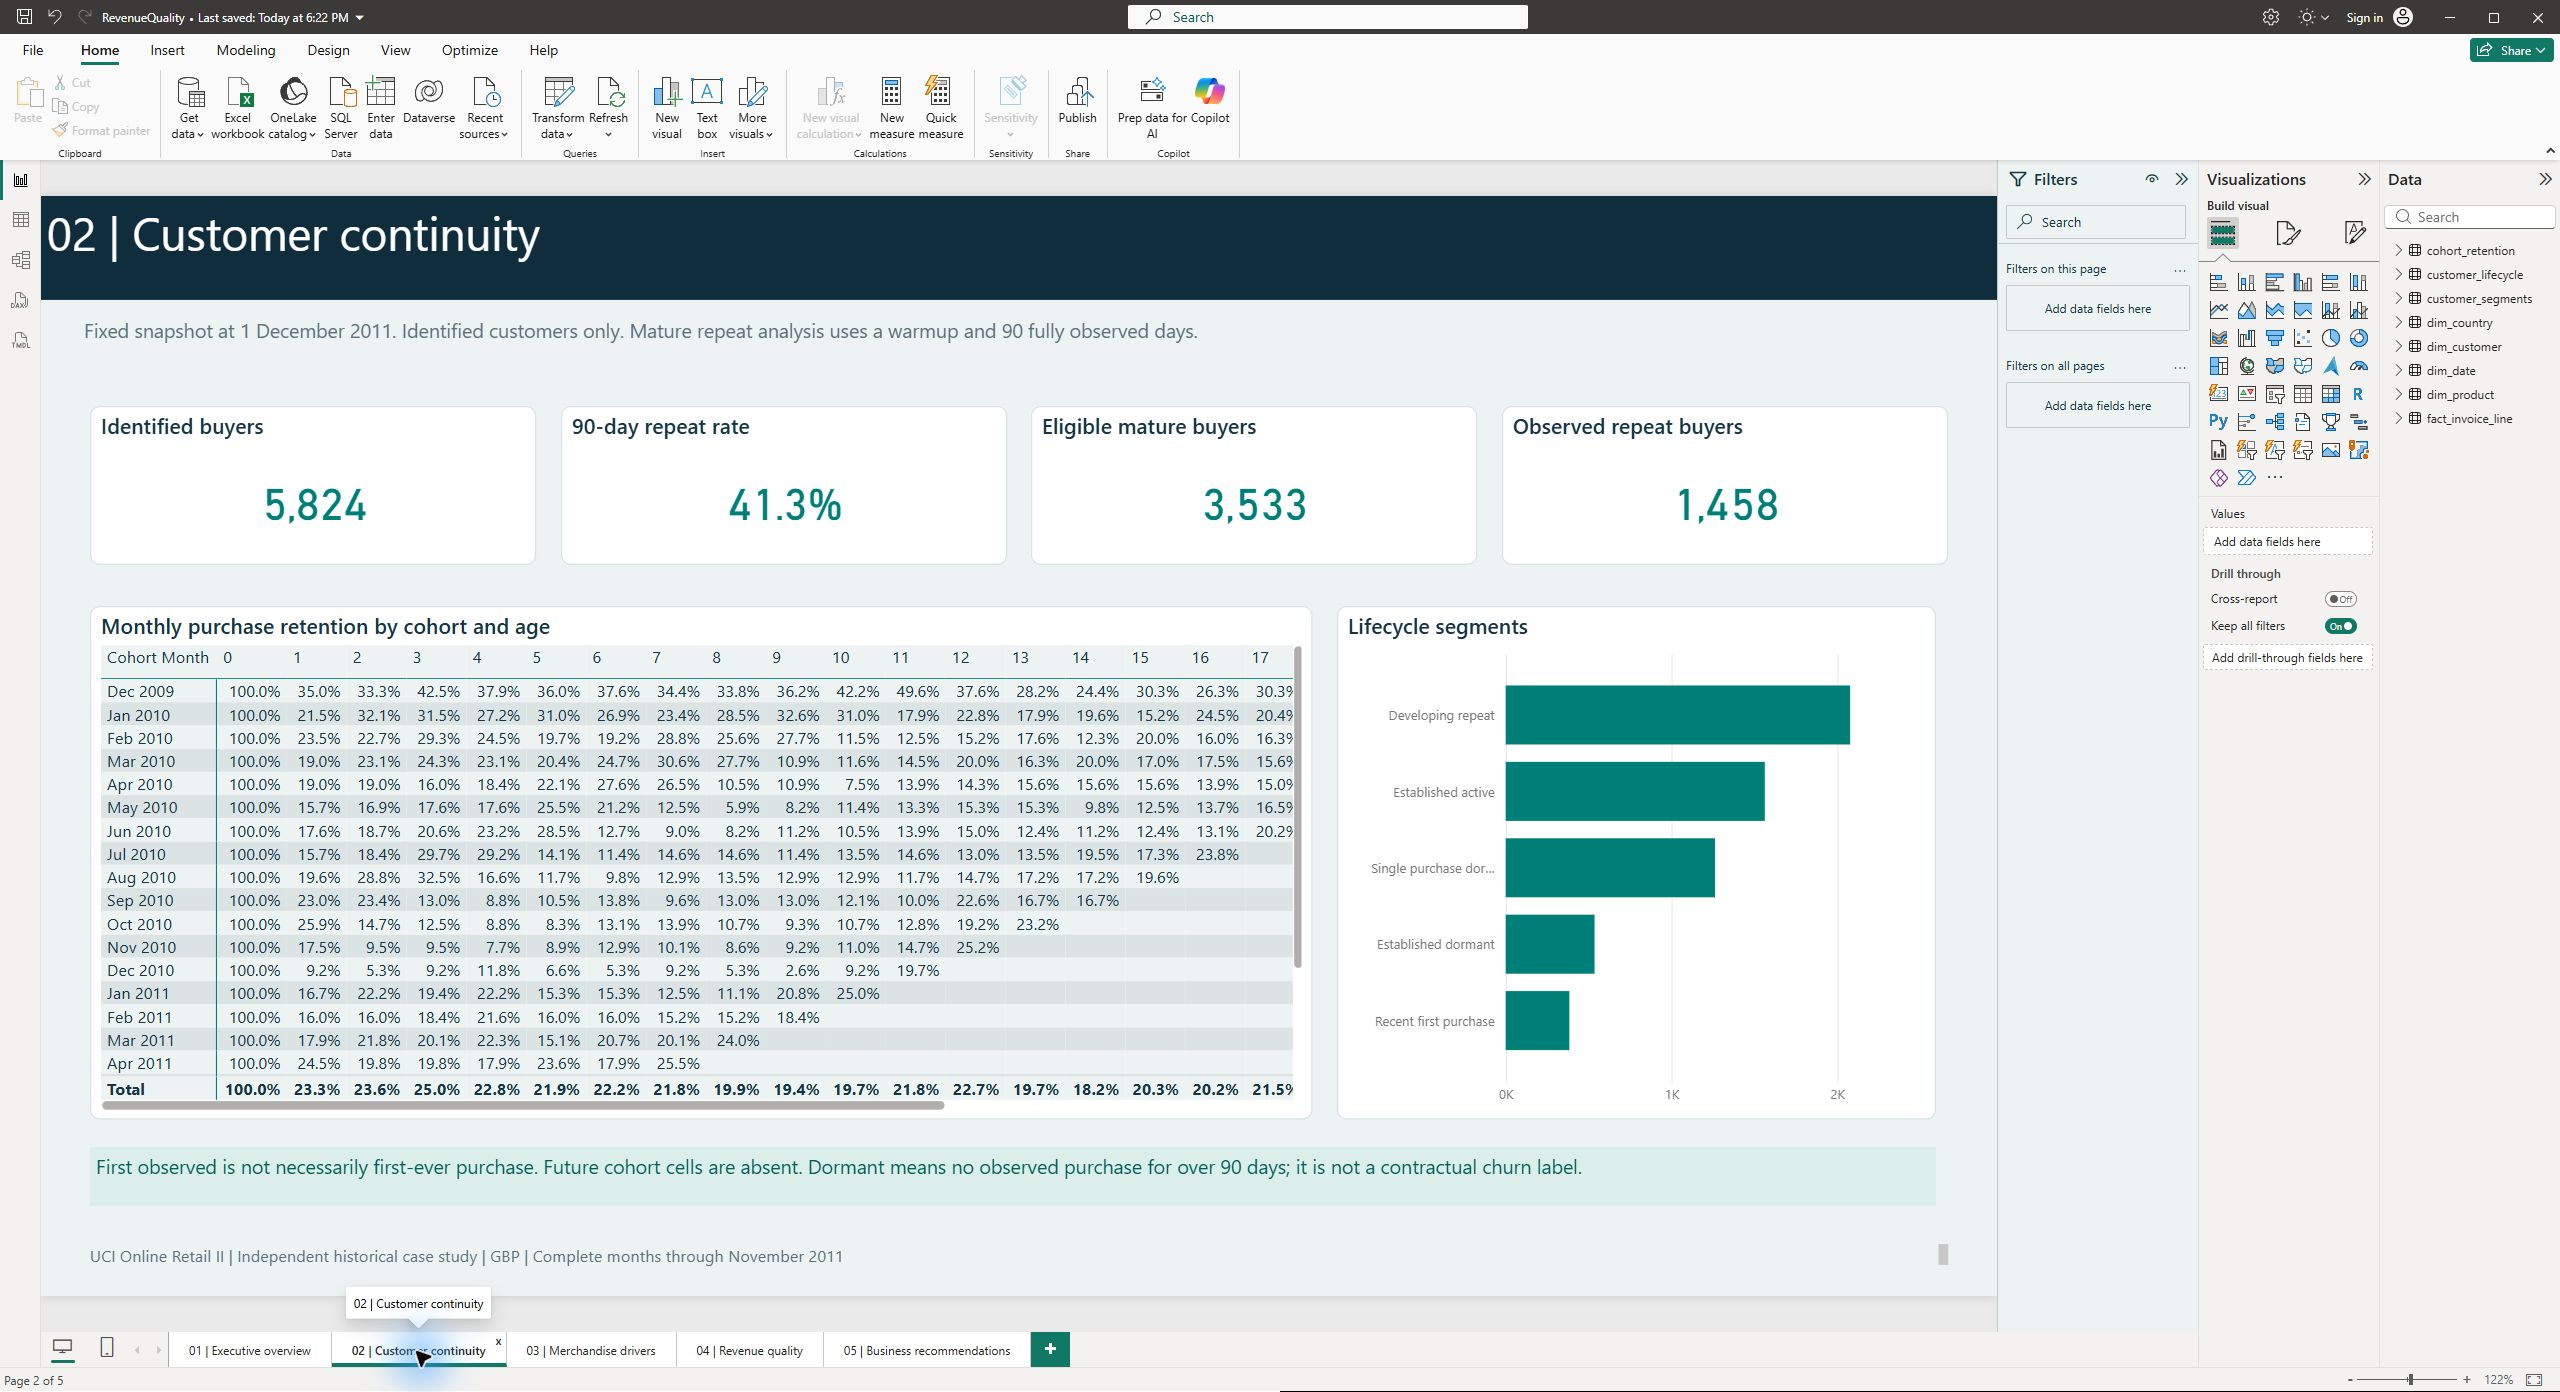

The page's visual inventory and layout, read from the dashboard file:
{"tool":"powerbi","page":{"name":"02 | Customer return","canvas":[1600,900],"ordinal":1},"visuals":[{"type":"textbox","box":[0,0,1600,116],"z":21},{"type":"textbox","box":[32,0,1000,35.5],"z":22},{"type":"textbox","box":[32,30,1515,61],"z":23},{"type":"textbox","box":[34,80,1518,37],"z":24},{"type":"textbox","box":[1480,0,92,37],"z":25},{"type":"textbox","box":[34,852,1530,36],"z":26},{"type":"textbox","box":[36,139,1528,43],"z":27},{"type":"card","title":"Bought again within 90 days","fields":{"Values":["fact_invoice_line.Repeat 90d Rate"]},"box":[36,215,490,96],"z":28},{"type":"textbox","box":[36,307,490,43],"z":29},{"type":"card","title":"Identified buyers","fields":{"Values":["fact_invoice_line.Snapshot Customers"]},"box":[546,215,315,96],"z":30},{"type":"textbox","box":[546,307,315,43],"z":31},{"type":"card","title":"Eligible for fair comparison","fields":{"Values":["fact_invoice_line.Mature 90d Customers"]},"box":[881,215,315,96],"z":32},{"type":"textbox","box":[881,307,315,43],"z":33},{"type":"card","title":"Observed repeat buyers","fields":{"Values":["fact_invoice_line.Mature 90d Repeat Customers"]},"box":[1216,215,348,96],"z":34},{"type":"textbox","box":[1216,307,348,43],"z":35},{"type":"pivotTable","title":"Who purchased again in later calendar months?","fields":{"Columns":["cohort_retention.month_age"],"Rows":["cohort_retention.cohort_month"],"Values":["fact_invoice_line.Purchase Retention Rate"]},"box":[36,367,1000,359],"z":36},{"type":"clusteredBarChart","title":"Customer groups | fixed snapshot","fields":{"Category":["customer_segments.segment"],"Y":["fact_invoice_line.Snapshot Customers"]},"box":[1058,367,506,359],"z":37},{"type":"textbox","box":[36,758,1528,37],"z":38},{"type":"textbox","box":[36,787,1528,60],"z":39}]}

Visuals, with their boxes on the page's 1600x900 design canvas (x1, y1, x2, y2). These are canvas units, not pixel positions in the 2560x1392 screenshot, which may show the page scaled, cropped or inside an application window:
textbox: {"left": 0, "top": 0, "right": 1600, "bottom": 116}
textbox: {"left": 32, "top": 0, "right": 1032, "bottom": 36}
textbox: {"left": 32, "top": 30, "right": 1547, "bottom": 91}
textbox: {"left": 34, "top": 80, "right": 1552, "bottom": 117}
textbox: {"left": 1480, "top": 0, "right": 1572, "bottom": 37}
textbox: {"left": 34, "top": 852, "right": 1564, "bottom": 888}
textbox: {"left": 36, "top": 139, "right": 1564, "bottom": 182}
"Bought again within 90 days" card: {"left": 36, "top": 215, "right": 526, "bottom": 311}
textbox: {"left": 36, "top": 307, "right": 526, "bottom": 350}
"Identified buyers" card: {"left": 546, "top": 215, "right": 861, "bottom": 311}
textbox: {"left": 546, "top": 307, "right": 861, "bottom": 350}
"Eligible for fair comparison" card: {"left": 881, "top": 215, "right": 1196, "bottom": 311}
textbox: {"left": 881, "top": 307, "right": 1196, "bottom": 350}
"Observed repeat buyers" card: {"left": 1216, "top": 215, "right": 1564, "bottom": 311}
textbox: {"left": 1216, "top": 307, "right": 1564, "bottom": 350}
"Who purchased again in later calendar months?" pivotTable: {"left": 36, "top": 367, "right": 1036, "bottom": 726}
"Customer groups | fixed snapshot" clusteredBarChart: {"left": 1058, "top": 367, "right": 1564, "bottom": 726}
textbox: {"left": 36, "top": 758, "right": 1564, "bottom": 795}
textbox: {"left": 36, "top": 787, "right": 1564, "bottom": 847}
